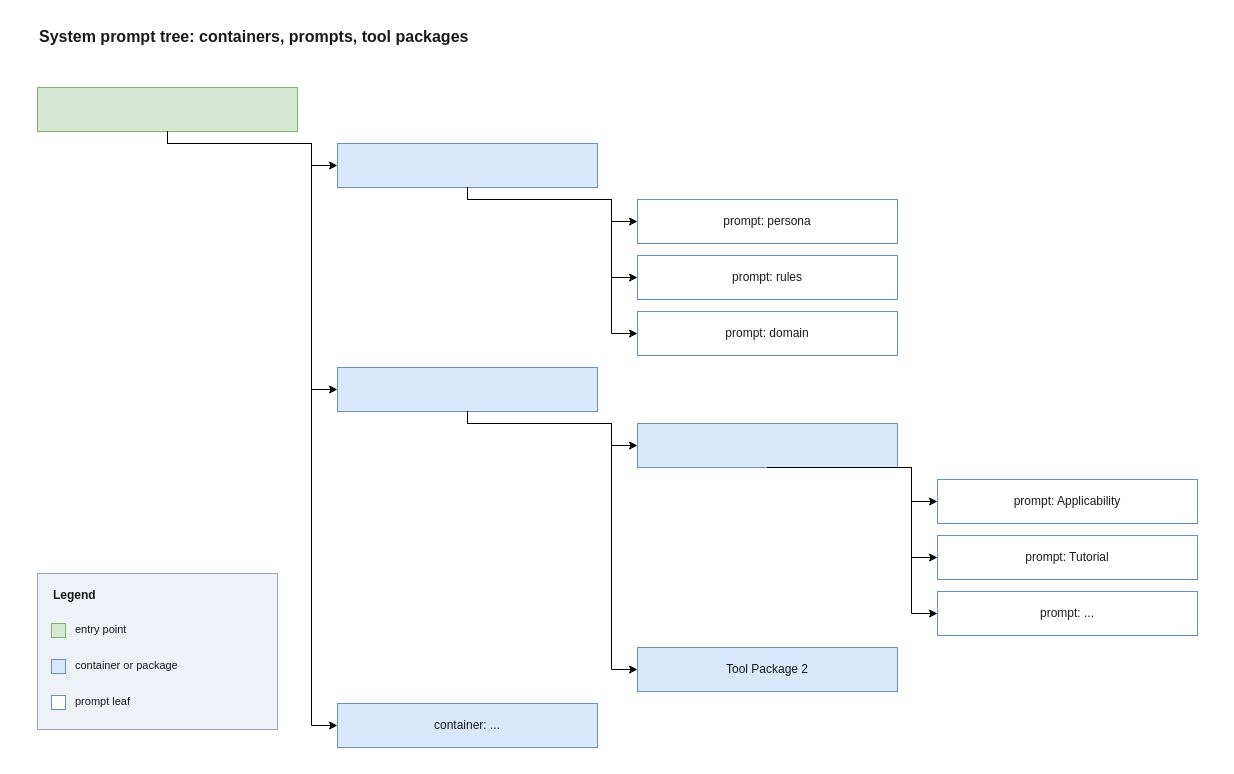
The diagram is 1234 pixels wide and 774 high, and some of its shapes have lost their labels. Here are the shapes that lost their labels. From the top down, the centre of each, then its label:
the point at 167,109: chat.system()
the point at 467,165: container: general
the point at 467,389: container: tutorials
the point at 767,445: Tool Package 1
